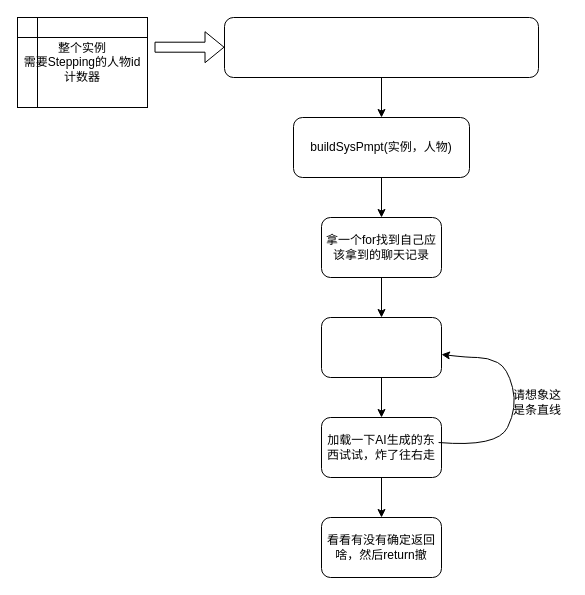
Image size: 585x595. Some labels were removed from this diagram. The box of each missing label's shape, as (x1, y1, x2, y2) in pixels:
函数AgentCharacterSteeping启动 返回值暂定: (224, 16, 538, 78)
揉吧一下聊天记录，丢给AI服务器: (320, 316, 442, 378)
